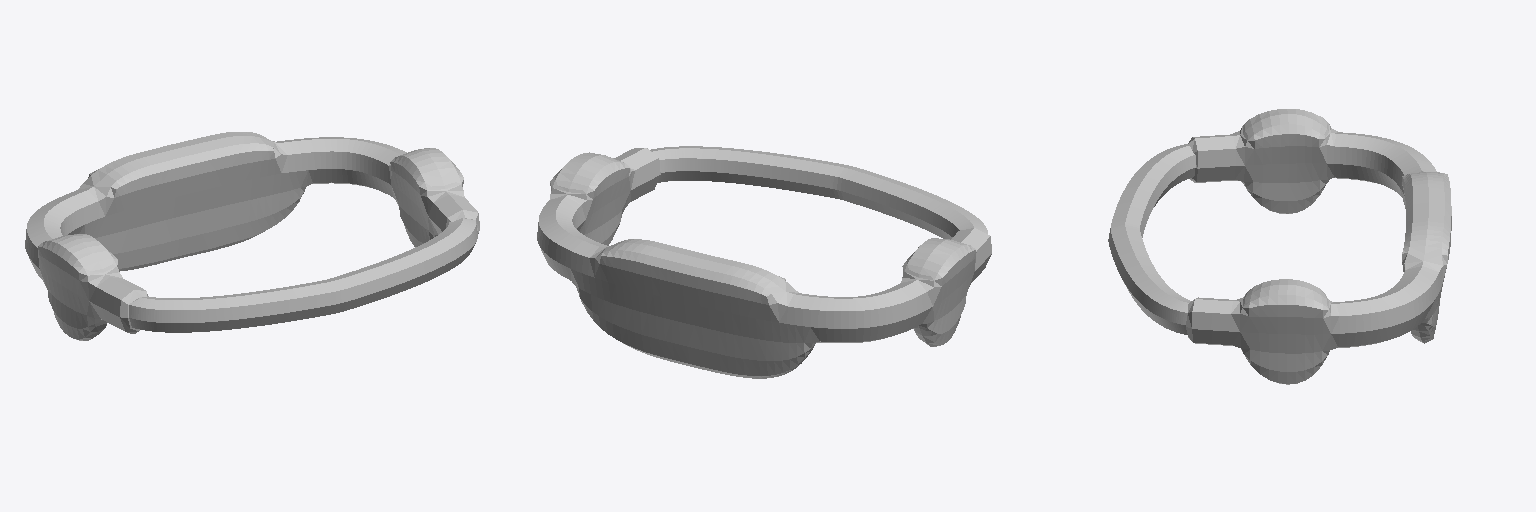
Rendered from controller2.obj.
3 renders of one model, left to right at view 1: azimuth 30°, elevation 25°; view 2: azimuth 150°, elevation 25°; view 3: azimuth 270°, elevation 25°, orthographic.
Size of the model in its own units: 34.83 by 9.6 by 26.31.